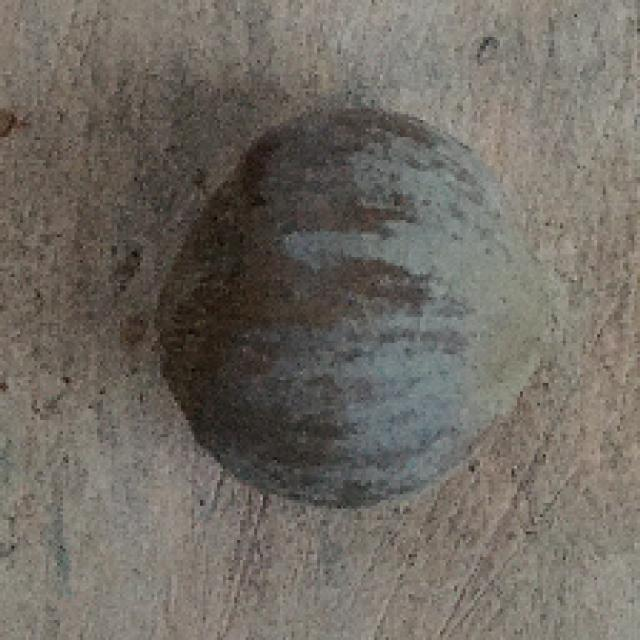damagedHazelnut: (146, 105, 560, 502)
